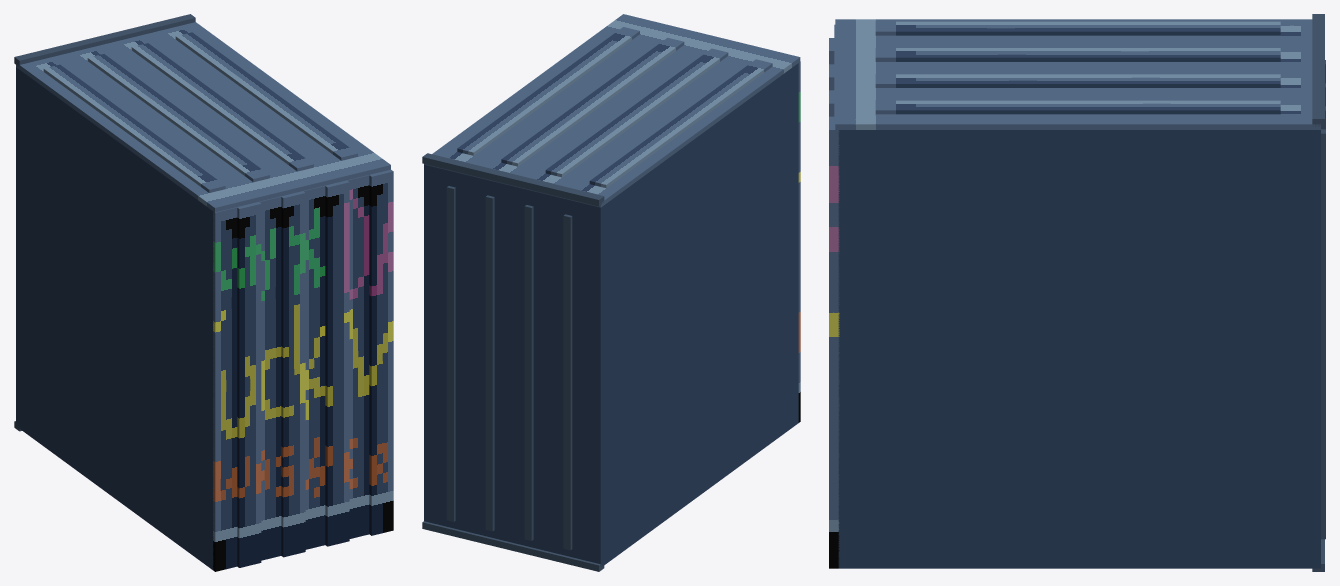
Rendered from CMU3DFreightAU14ContainerBlueGraffitiMiddle.glb.
3 renders of one model, left to right at view 1: azimuth 30°, elevation 25°; view 2: azimuth 150°, elevation 25°; view 3: azimuth 270°, elevation 25°, orthographic. The views are drawn at different scales.
Parts seen in each view (by area): view 1: closed cargo shell, source-painted corrugated roof, painted corrugation 6, painted corrugation 4, painted corrugation 8, painted corrugation 2, painted corrugation 1, painted corrugation 3, painted corrugation 5, painted corrugation 7, source-painted roof ridge 4, source-painted roof ridge 1 (+3 smaller); view 2: closed cargo shell, source-painted corrugated roof, rear wall corrugation (×4), rear horizontal frame (×2), source-painted roof ridge 2, source-painted roof ridge 1, source-painted roof ridge 3, source-painted roof ridge 4, painted corrugation 1; view 3: closed cargo shell, source-painted corrugated roof, source-painted roof ridge 1, source-painted roof ridge 4, source-painted roof ridge 2, source-painted roof ridge 3, painted corrugation 8, rear wall corrugation, rear horizontal frame.
Boxes of the visible parts, bbox=[...] form: closed cargo shell: bbox=[16, 67, 213, 569]; source-painted corrugated roof: bbox=[16, 22, 390, 212]; painted corrugation 6: bbox=[325, 180, 349, 546]; painted corrugation 4: bbox=[281, 191, 305, 557]; painted corrugation 8: bbox=[369, 169, 393, 535]; painted corrugation 2: bbox=[237, 202, 261, 567]; painted corrugation 1: bbox=[213, 207, 237, 571]; painted corrugation 3: bbox=[259, 196, 281, 560]; painted corrugation 5: bbox=[303, 185, 325, 549]; painted corrugation 7: bbox=[347, 175, 369, 538]; source-painted roof ridge 4: bbox=[175, 32, 357, 160]; source-painted roof ridge 1: bbox=[43, 64, 225, 192]; closed cargo shell: bbox=[424, 63, 798, 566]; source-painted corrugated roof: bbox=[424, 14, 800, 207]; rear wall corrugation (×4): bbox=[446, 186, 572, 550]; rear horizontal frame (×2): bbox=[422, 153, 604, 571]; source-painted roof ridge 2: bbox=[545, 48, 728, 177]; source-painted roof ridge 1: bbox=[589, 59, 772, 188]; source-painted roof ridge 3: bbox=[501, 37, 684, 166]; source-painted roof ridge 4: bbox=[457, 27, 639, 155]; painted corrugation 1: bbox=[798, 61, 800, 422]; closed cargo shell: bbox=[838, 130, 1320, 568]; source-painted corrugated roof: bbox=[835, 19, 1320, 129]; source-painted roof ridge 1: bbox=[875, 21, 1280, 35]; source-painted roof ridge 4: bbox=[875, 100, 1280, 114]; source-painted roof ridge 2: bbox=[875, 48, 1280, 61]; source-painted roof ridge 3: bbox=[875, 74, 1280, 87]; painted corrugation 8: bbox=[829, 116, 839, 568]; rear wall corrugation: bbox=[1321, 129, 1325, 539]; rear horizontal frame: bbox=[1312, 14, 1324, 126].
Size of the model in its own units: 1 by 2.01 by 2.
12 materials, 10 textured.
